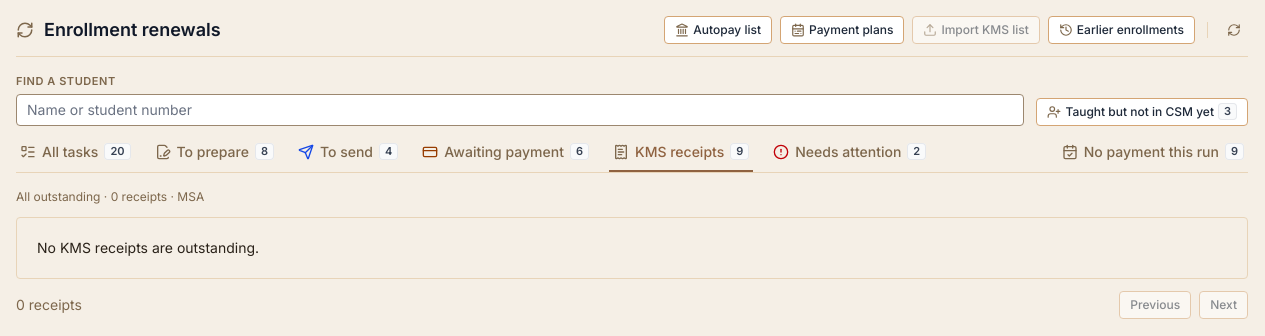
Scenario: enrollment renewal queue › refreshes renewal badges while staying on KMS receipts and keeps its own count separate
Expected: the tab "To send 4" is shown, left=294, top=142, right=402, bottom=172
Click the button named "Refresh renewals": (1234, 30) left=1220, top=16, right=1248, bottom=44
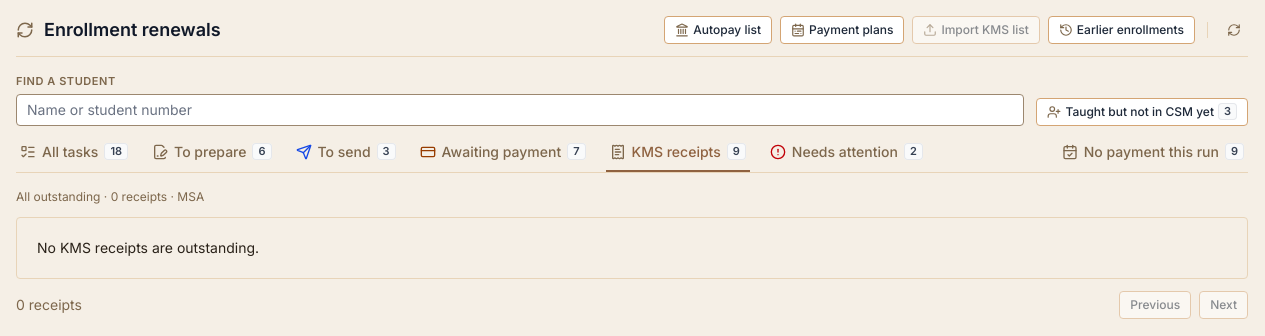
Result: the tab "To send 3" is shown at left=292, top=142, right=400, bottom=172
Result: the tab "To prepare 6" is shown at left=148, top=142, right=276, bottom=172
Result: the tab "Awaiting payment 7" is shown at left=416, top=142, right=590, bottom=172
